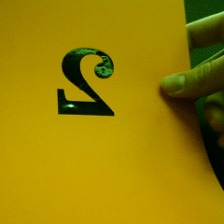orange2: (48, 41, 121, 120)
